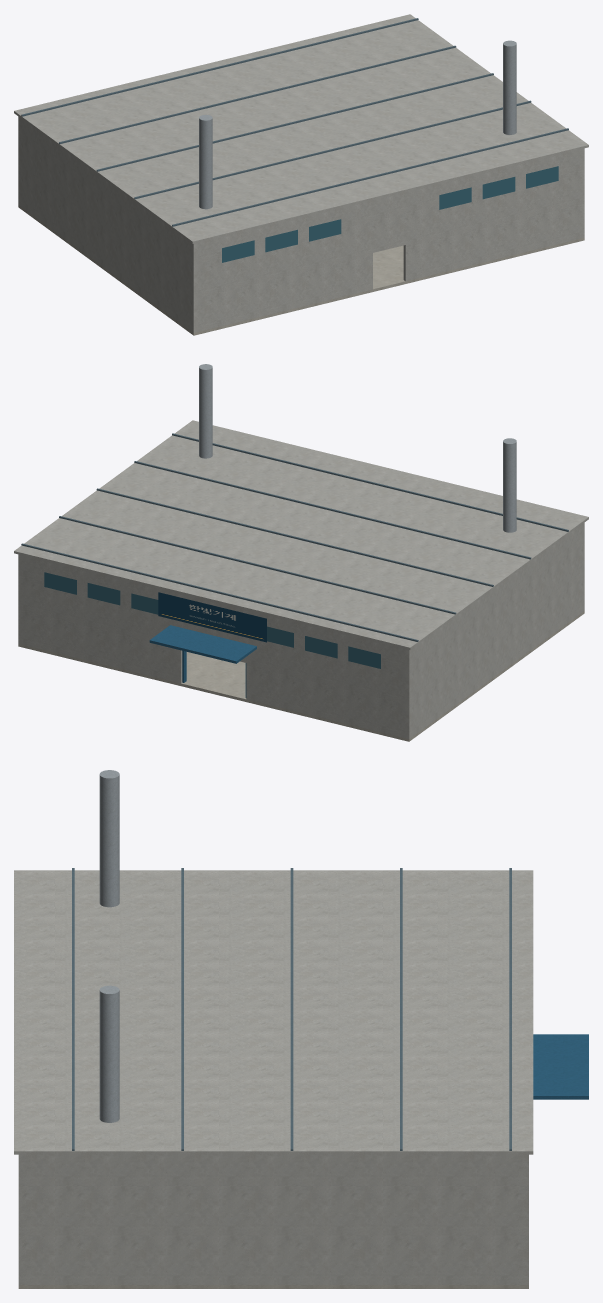
The model's file is factory_hall.glb.
3 views of the same model, one above another, from view 1: azimuth 30°, elevation 25°; view 2: azimuth 150°, elevation 25°; view 3: azimuth 270°, elevation 25° (orthographic). The views are drawn at different scales.
Parts seen in each view (by area): view 1: factory_hall; view 2: factory_hall; view 3: factory_hall.
Boxes of the visible parts, box(x1,y1,x2,y2) form: factory_hall: box(14, 14, 588, 335); factory_hall: box(14, 364, 588, 741); factory_hall: box(14, 770, 588, 1288).
Bounding box in the file's own units: 36.5 × 16.24 × 31.55.
